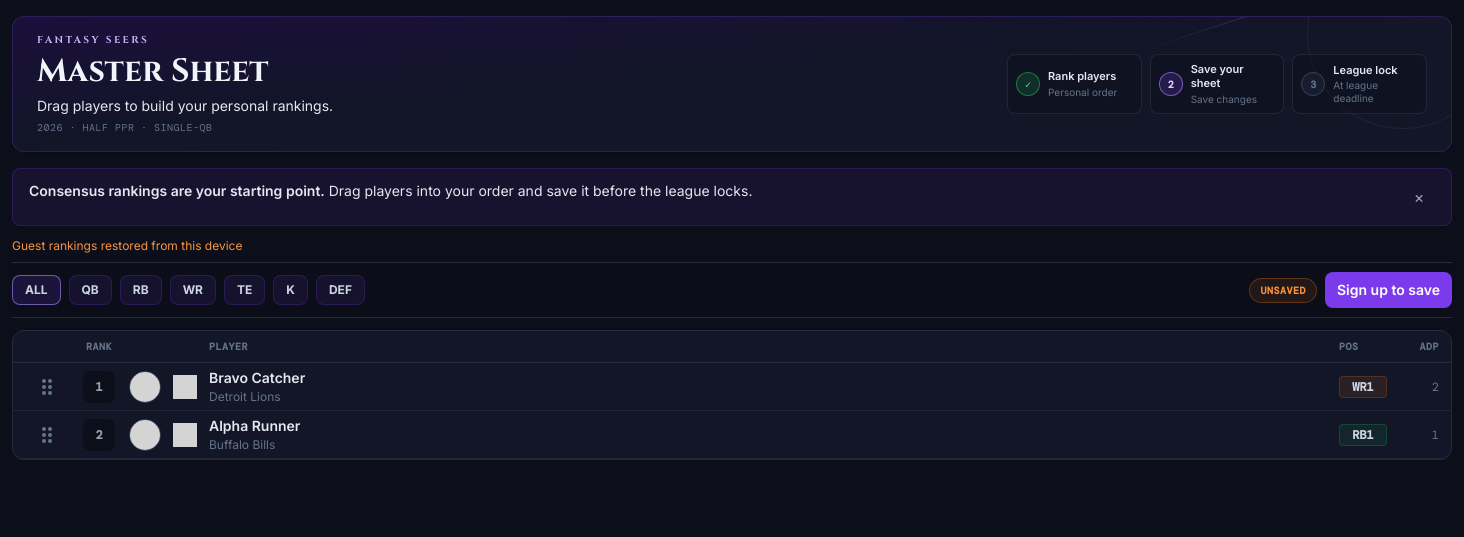
Test: MasterSheetPage › for guests › then signs in › keeps a locked account board unchanged and offers the guest version as practice
Expected: the text "Guest rankings restored from this device" is shown, [12,238,242,253]
Click the button "Sign up to save".
click(1388, 290)  # box [1325,272,1452,308]
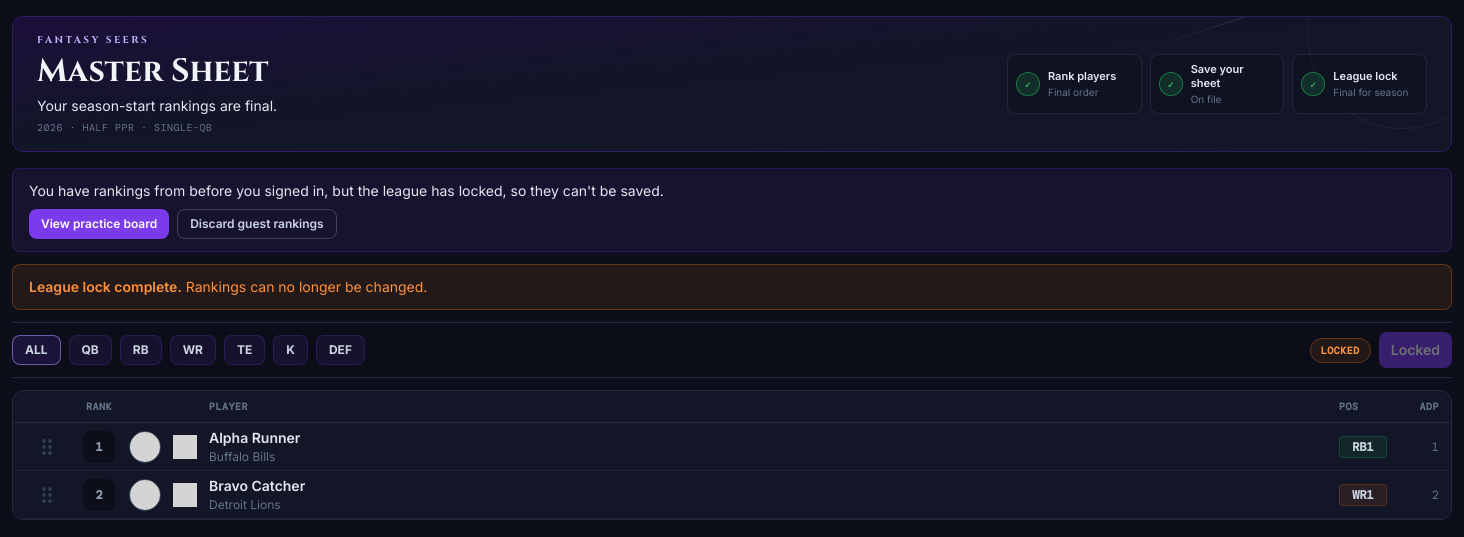
Expected: the text "league has locked" is shown, [29,182,664,199]
Click the button "View practice board".
click(99, 224)  # box [29,209,169,239]
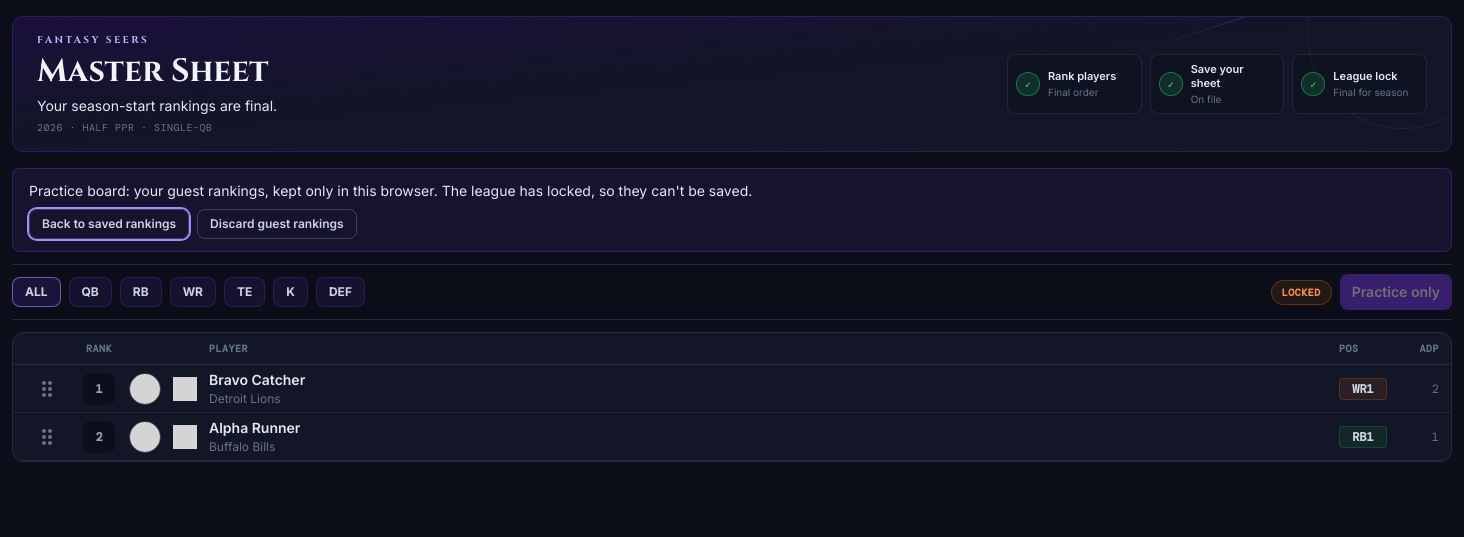
Expected: the button "Practice only" is disabled, [1340,274,1452,310]
Expected: the button named "Move Bravo Catcher, currently ranked 1" is shown, [25,366,69,410]
